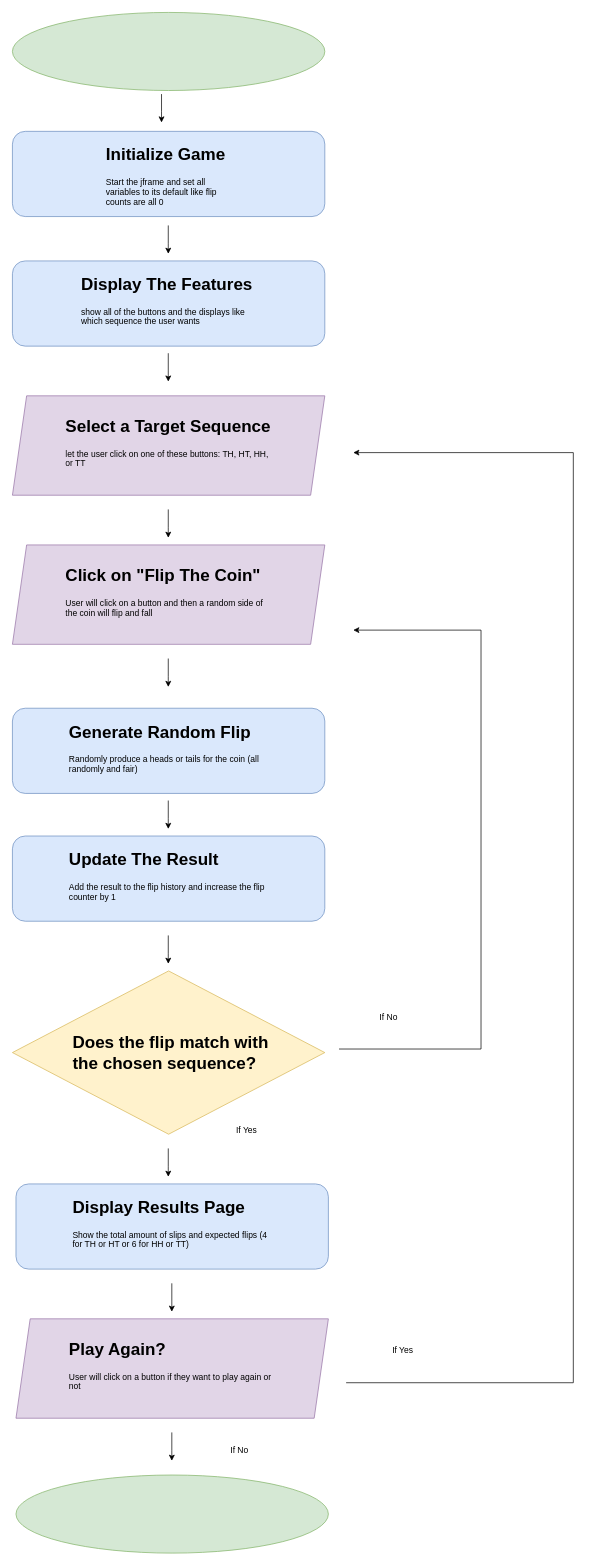
This 591x1566 diagram has some shape labels left out. Here are the shapes that lost their labels. From the top down, the centre of each, then its label:
At point (168, 51): "Start Game Launch the game".
At point (171, 1513): "End Game Close the game".
